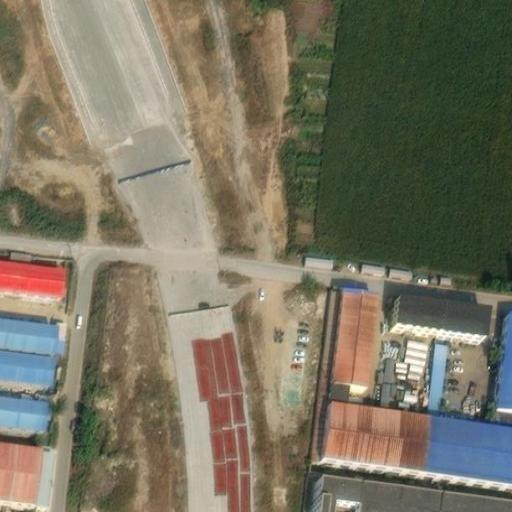building: (321, 391, 512, 476), (316, 466, 512, 512), (328, 280, 381, 394), (391, 295, 487, 333), (494, 301, 512, 414), (0, 393, 49, 434), (425, 334, 451, 406), (300, 252, 334, 271), (382, 263, 412, 282), (356, 258, 385, 276), (16, 506, 43, 512)
